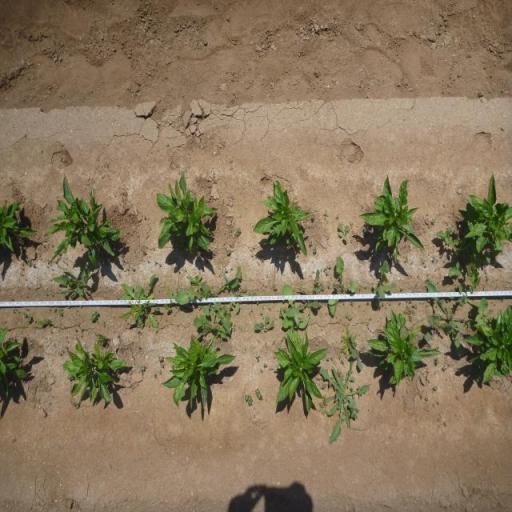plant: (43, 173, 121, 269), (356, 173, 428, 260), (161, 335, 241, 412), (365, 307, 441, 388), (155, 169, 217, 256), (455, 171, 512, 257), (251, 178, 310, 259), (61, 335, 126, 407), (275, 332, 330, 414), (463, 303, 512, 389), (0, 196, 37, 256), (0, 326, 27, 402)
weed: (320, 356, 374, 446), (424, 277, 472, 361), (434, 225, 501, 281), (175, 281, 236, 335), (446, 271, 494, 324), (117, 271, 158, 332), (286, 268, 323, 330), (326, 254, 360, 317), (225, 263, 258, 317), (52, 258, 90, 302), (372, 258, 396, 300), (279, 281, 296, 339), (192, 315, 228, 342), (350, 334, 368, 372), (338, 328, 356, 352), (162, 282, 176, 312), (254, 315, 274, 333), (337, 221, 351, 243), (317, 395, 328, 418), (404, 304, 416, 320), (189, 274, 203, 287), (90, 310, 100, 324), (254, 386, 264, 400), (37, 318, 52, 326), (350, 407, 358, 421), (244, 394, 253, 406), (72, 398, 80, 409), (234, 226, 242, 237), (98, 334, 106, 344), (277, 308, 285, 317), (25, 314, 32, 324), (139, 364, 146, 374), (154, 305, 161, 315), (346, 314, 354, 322), (362, 226, 370, 234), (255, 353, 260, 364), (226, 248, 232, 256), (66, 374, 72, 381), (312, 247, 318, 254), (308, 240, 314, 247), (412, 303, 418, 310), (431, 217, 437, 224), (58, 306, 62, 316), (435, 356, 439, 366), (263, 363, 269, 369), (442, 366, 448, 372), (158, 355, 163, 362), (142, 250, 148, 255), (324, 211, 329, 217), (432, 386, 438, 391), (160, 362, 164, 369), (350, 300, 354, 306), (312, 214, 314, 220)
